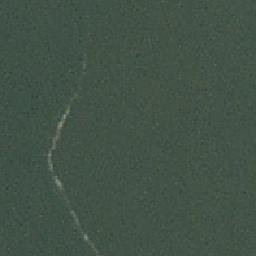debris: (46, 131, 61, 188), (72, 198, 86, 240), (59, 97, 71, 129)
